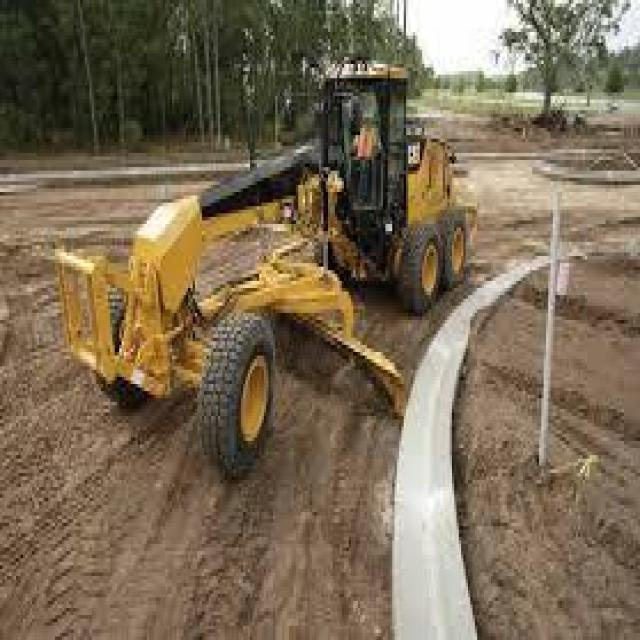buldozerpayloadergrader: (46, 35, 482, 498)
